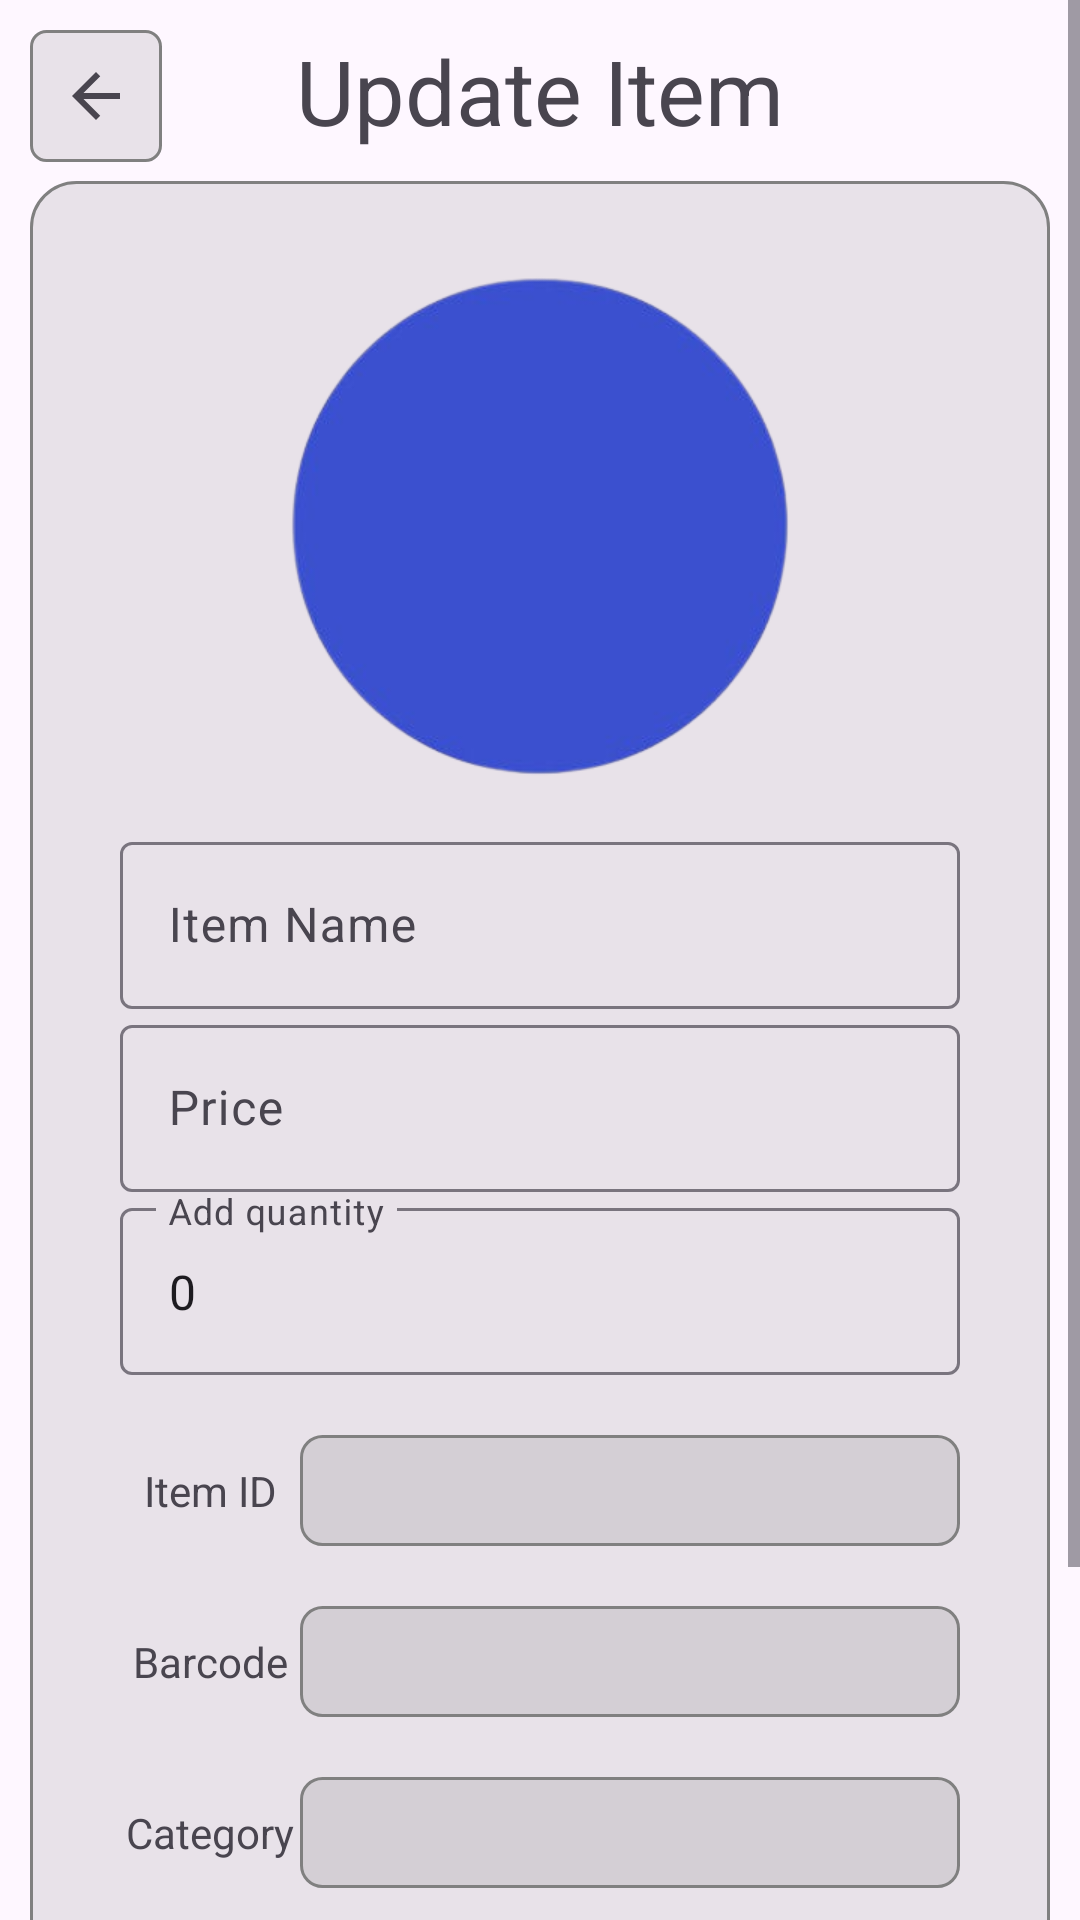

Screen size 1080 x 1920. Icon name, then its box in pixels as (x1, y1, x2, y2):
Back button: (30, 30, 162, 162)
